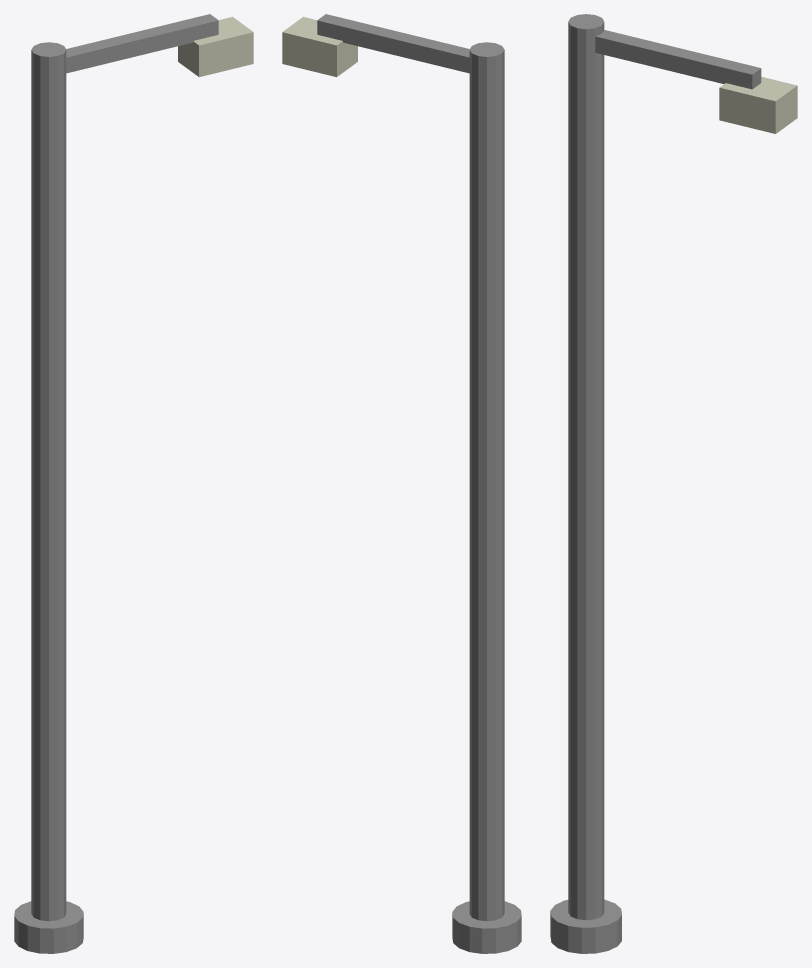
The model's file is lamppost.glb.
The picture shows the model from 3 angles, left to right: view 1: azimuth 30°, elevation 25°; view 2: azimuth 150°, elevation 25°; view 3: azimuth 330°, elevation 25°; orthographic projection. The views are drawn at different scales.
Parts seen in each view (by area): view 1: streetlight_0_0, streetlight_0_1, streetlight_0_2, streetlight_0_3; view 2: streetlight_0_0, streetlight_0_1, streetlight_0_2, streetlight_0_3; view 3: streetlight_0_0, streetlight_0_1, streetlight_0_2, streetlight_0_3.
Boxes of the visible parts, x1,y1,x2,y2 form: streetlight_0_0: [31, 42, 66, 921]; streetlight_0_1: [66, 14, 218, 73]; streetlight_0_2: [178, 16, 253, 77]; streetlight_0_3: [14, 901, 83, 953]; streetlight_0_0: [469, 42, 504, 921]; streetlight_0_1: [317, 14, 469, 73]; streetlight_0_2: [282, 16, 357, 77]; streetlight_0_3: [452, 901, 521, 953]; streetlight_0_0: [568, 14, 604, 920]; streetlight_0_1: [595, 30, 761, 89]; streetlight_0_2: [719, 76, 797, 133]; streetlight_0_3: [550, 899, 621, 953].
Bounding box in the file's own units: 0.74 × 2.8 × 0.2.
